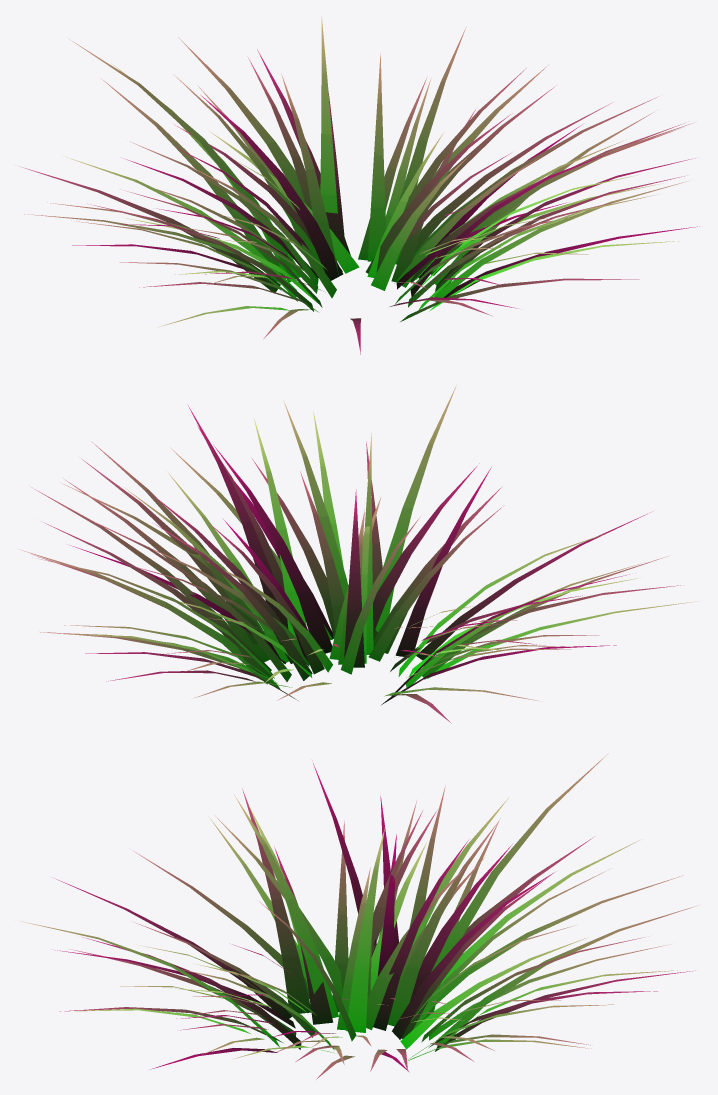
The model's file is grass_c.glb.
3 renders of one model, top to bottom at view 1: azimuth 30°, elevation 25°; view 2: azimuth 150°, elevation 25°; view 3: azimuth 270°, elevation 25°, orthographic.
Parts seen in each view (by area): view 1: Grass_C; view 2: Grass_C; view 3: Grass_C.
Part boxes in pixels (x1,y1,x2,y2): Grass_C: [20, 17, 699, 354]; Grass_C: [20, 386, 697, 723]; Grass_C: [19, 753, 697, 1079].
Size of the model in its own units: 1.78 by 0.581 by 1.79.
